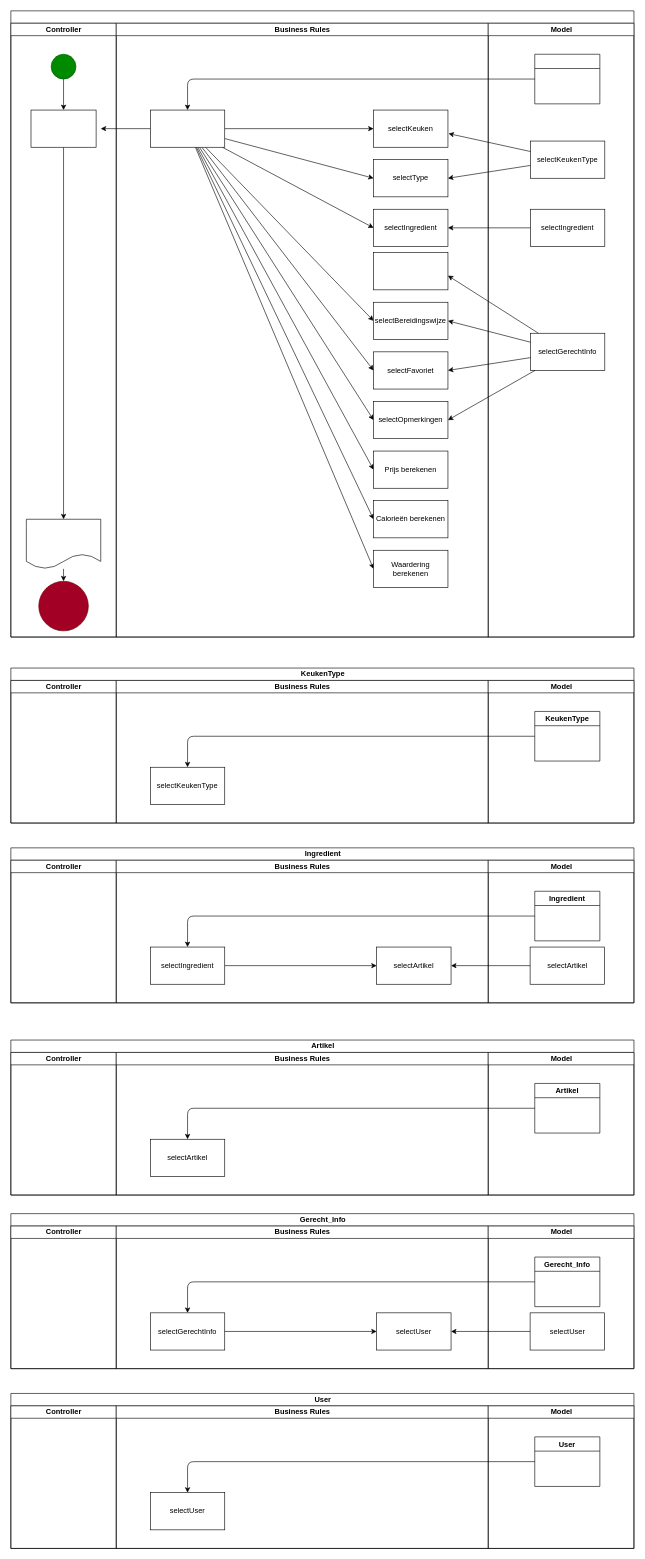
The diagram is 645 pixels wide and 1559 high, and some of its shapes have lost their labels. Each missing label, with the box of its shape:
Detail Pagina: (10, 10, 634, 637)
Gerecht: (534, 54, 600, 104)
Gerechten: (30, 109, 96, 147)
HTML: (26, 519, 101, 569)
SelectGerecht: (150, 109, 225, 147)
selectWaardering: (373, 252, 448, 290)
